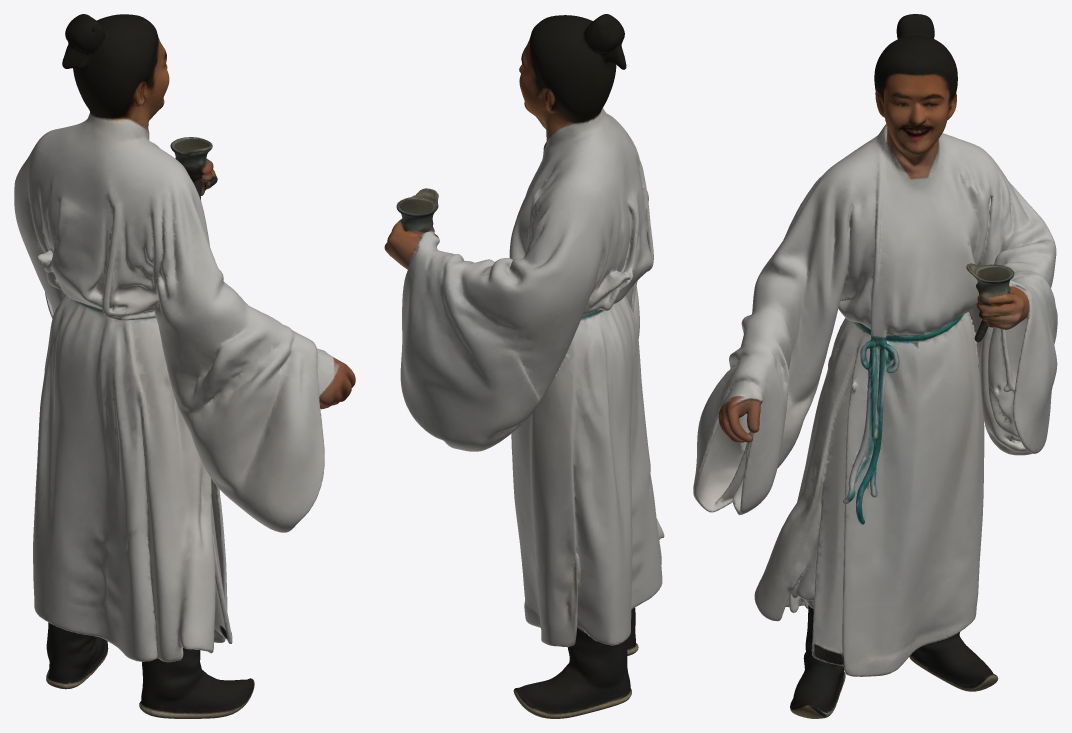
The model's file is li-bai.glb.
3 renders of one model, left to right at view 1: azimuth 30°, elevation 25°; view 2: azimuth 150°, elevation 25°; view 3: azimuth 270°, elevation 25°, orthographic. The views are drawn at different scales.
Parts seen in each view (by area): view 1: tripo_node_09fae0c3-bfc8-4e99-a220-91120be80735; view 2: tripo_node_09fae0c3-bfc8-4e99-a220-91120be80735; view 3: tripo_node_09fae0c3-bfc8-4e99-a220-91120be80735.
Part boxes in pixels (left/top/right/bottom): tripo_node_09fae0c3-bfc8-4e99-a220-91120be80735: left=14, top=14, right=355, bottom=718; tripo_node_09fae0c3-bfc8-4e99-a220-91120be80735: left=384, top=14, right=664, bottom=718; tripo_node_09fae0c3-bfc8-4e99-a220-91120be80735: left=693, top=14, right=1057, bottom=718.
Size of the model in its own units: 0.3327 by 1 by 0.4998.
1 material, 1 textured.
